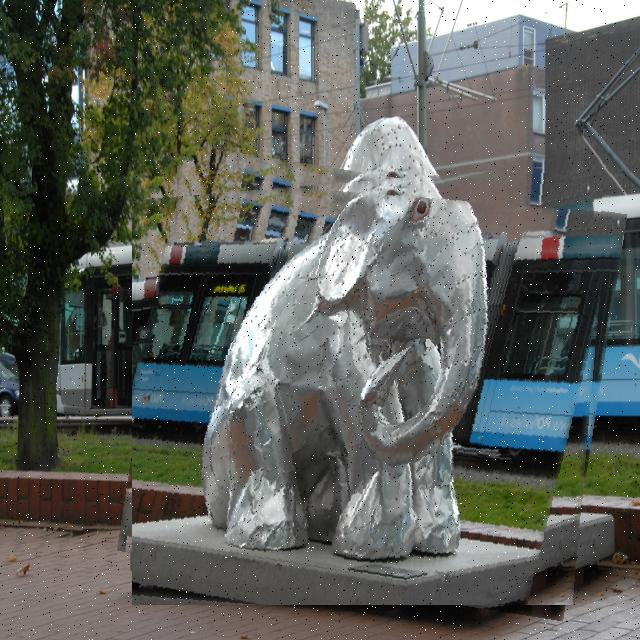elephant: (132, 161, 612, 605)
